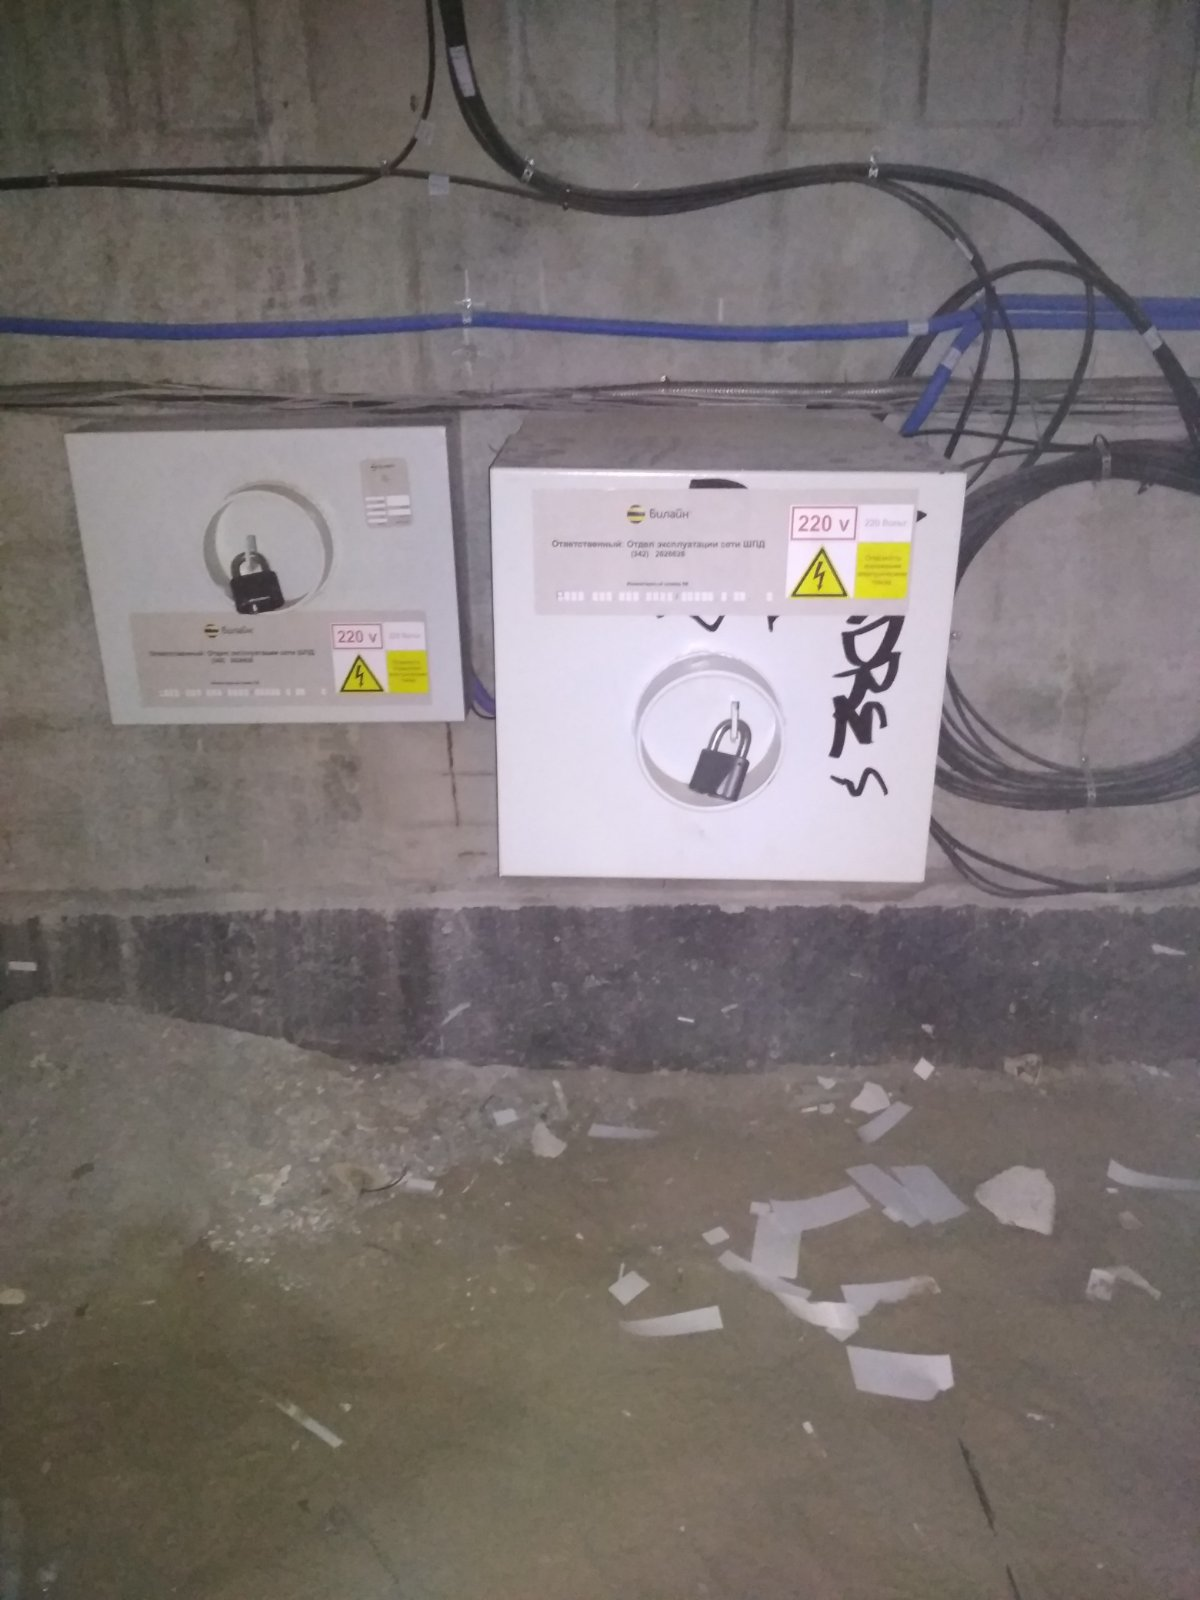shta-3: (53, 406, 479, 726)
shta-9: (484, 397, 971, 889)
